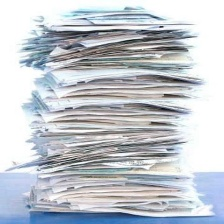book: (0, 4, 224, 216)
